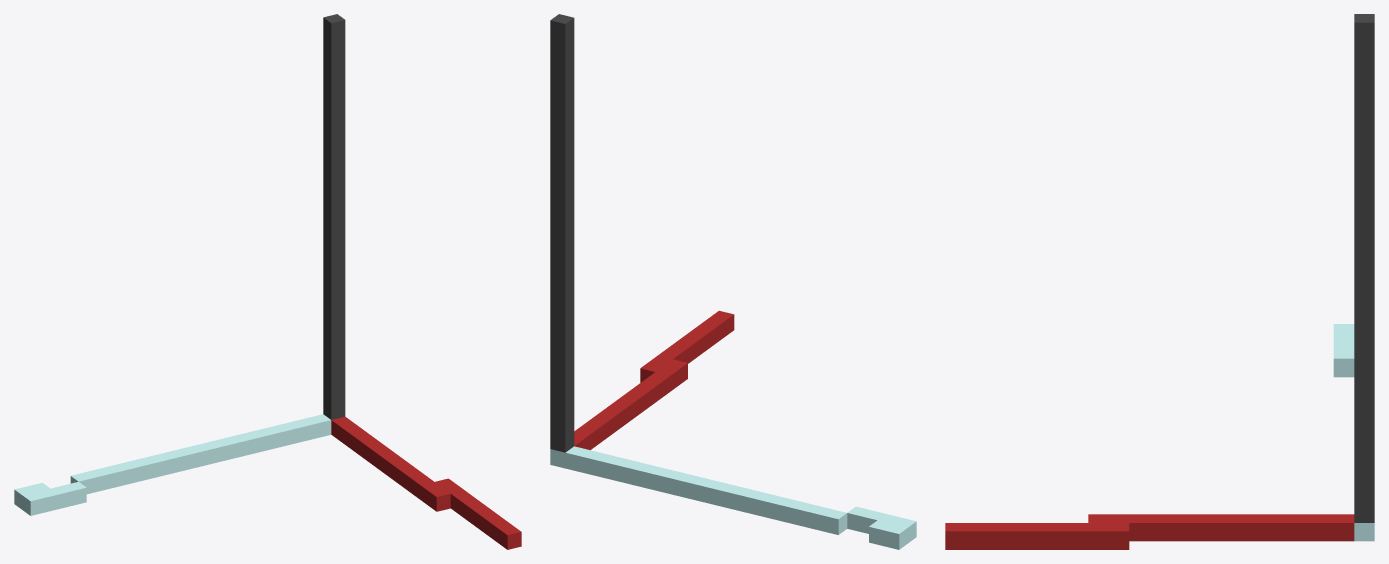
The model's file is Bedroom-4.obj.
3 views of the same model, side by side, from view 1: azimuth 30°, elevation 25°; view 2: azimuth 150°, elevation 25°; view 3: azimuth 270°, elevation 25° (orthographic). The views are drawn at different scales.
Bounding box in the file's own units: 2.4 × 2.8 × 2.1.
1 material, 1 textured.
